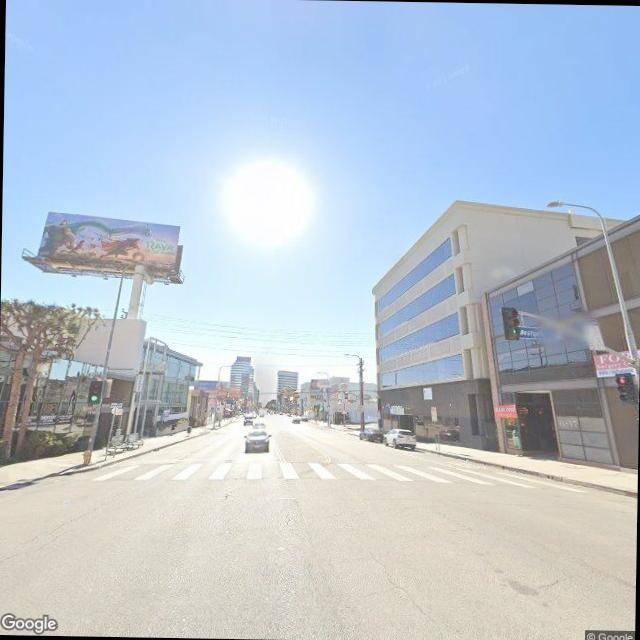pothole: (358, 548, 439, 625), (279, 499, 294, 528)
